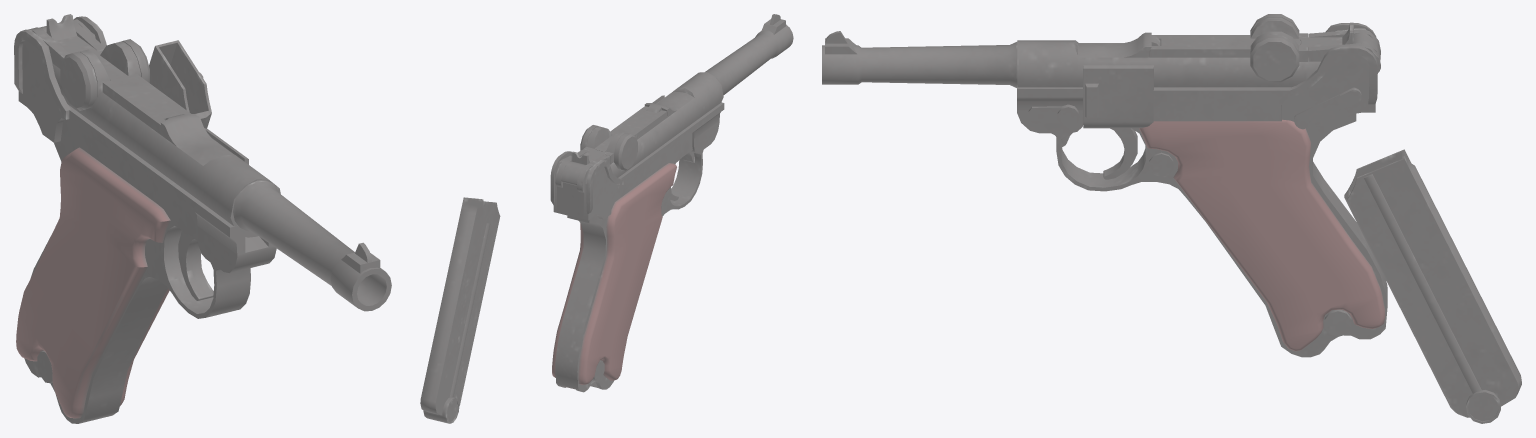
File: luger-pistol.glb
3 views of the same model, side by side, from view 1: azimuth 30°, elevation 25°; view 2: azimuth 150°, elevation 25°; view 3: azimuth 270°, elevation 25° (orthographic). The views are drawn at different scales.
Visible parts, largest first — view 1: Body, Barrel, Slide, Part3, Clip, Part2, Part1, Trigger; view 2: Body, Clip, Slide, Barrel, Part3, Part2, Part1; view 3: Body, Clip, Barrel, Slide, Part3, Part2, Part1, Trigger.
Part boxes in pixels (box(x1,y1,x2,y2)): Body: box(14, 16, 276, 423); Barrel: box(233, 180, 391, 311); Slide: box(52, 63, 280, 237); Part3: box(39, 14, 149, 110); Clip: box(149, 40, 211, 128); Part2: box(96, 55, 190, 135); Part1: box(160, 114, 233, 165); Trigger: box(178, 230, 213, 300); Body: box(550, 95, 724, 392); Clip: box(420, 197, 500, 423); Slide: box(610, 72, 723, 177); Barrel: box(705, 14, 793, 95); Part3: box(561, 125, 637, 185); Part2: box(594, 106, 667, 151); Part1: box(644, 92, 693, 116); Body: box(1017, 23, 1387, 357); Clip: box(1344, 149, 1521, 423); Barrel: box(822, 31, 1017, 87); Slide: box(1017, 40, 1320, 87); Part3: box(1250, 14, 1380, 82); Part2: box(1149, 35, 1301, 57); Part1: box(1077, 32, 1160, 57); Trigger: box(1061, 128, 1137, 179).
Size of the model in its own units: 0.0772 by 0.1546 by 0.2938.
1 material, 1 textured.
